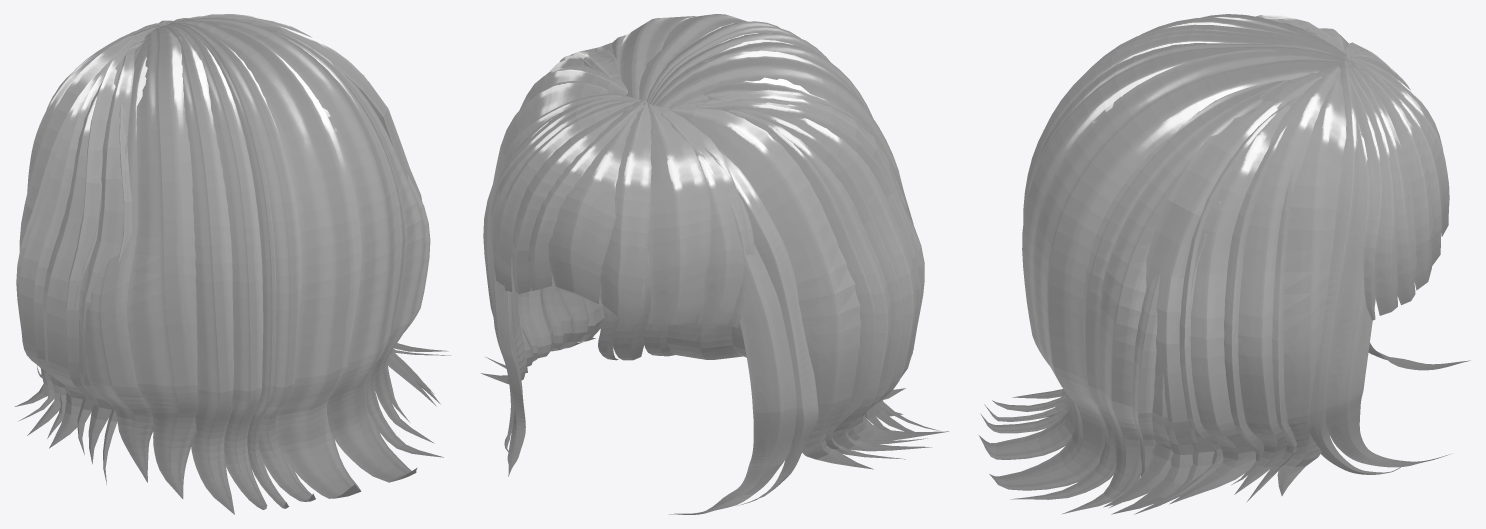
File: hair-masculine-bluntBob.glb
The picture shows the model from 3 angles, left to right: view 1: azimuth 30°, elevation 25°; view 2: azimuth 150°, elevation 25°; view 3: azimuth 270°, elevation 25°; orthographic projection. The views are drawn at different scales.
Parts seen in each view (by area): view 1: hair-bluntBob; view 2: hair-bluntBob; view 3: hair-bluntBob.
Part boxes in pixels (x1,y1,x2,y2): hair-bluntBob: (14, 14, 450, 514); hair-bluntBob: (480, 14, 949, 514); hair-bluntBob: (978, 14, 1470, 514).
Size of the model in its own units: 0.2756 by 0.2469 by 0.2705.
Materials: 3 (3 with a texture image).
